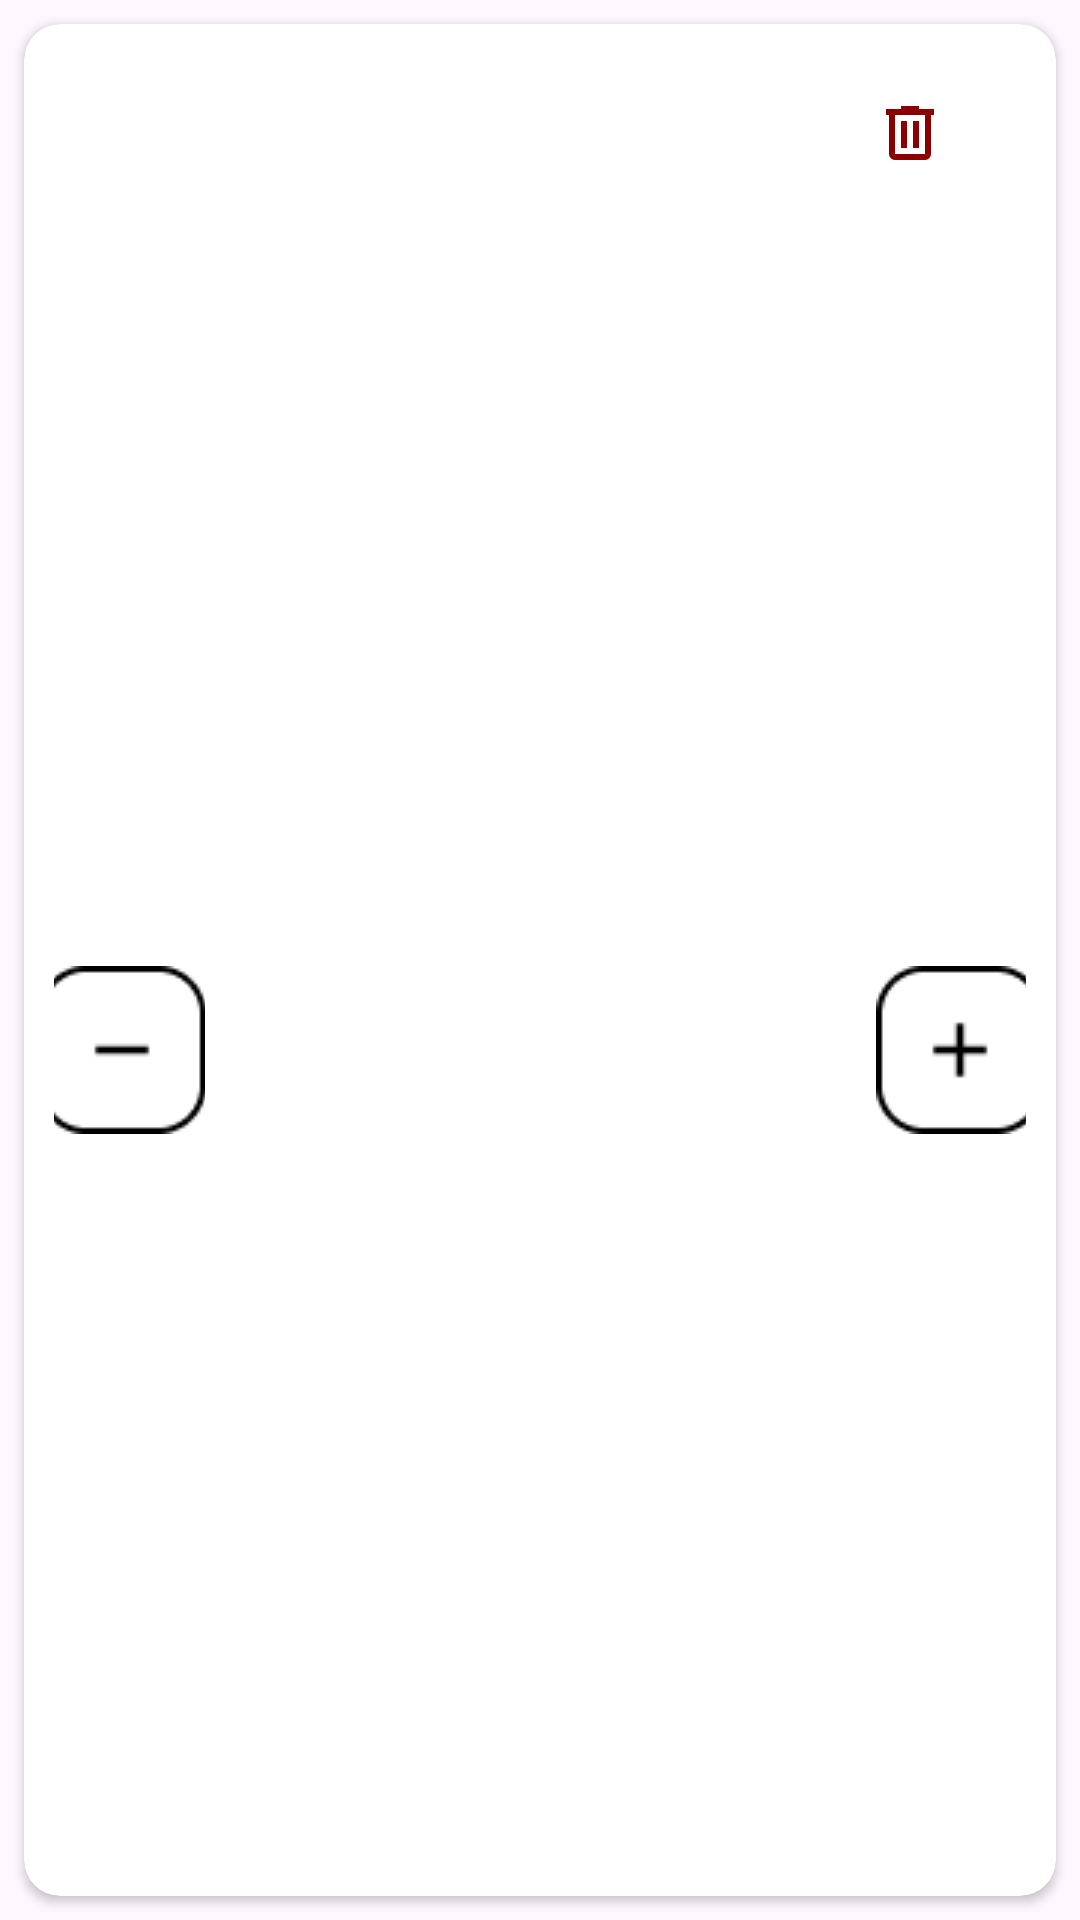

Icons on this 1080 × 1920 Android screen, each with the point to tap as point (x, y):
button minus: point (129, 1050)
delete: point (910, 133)
